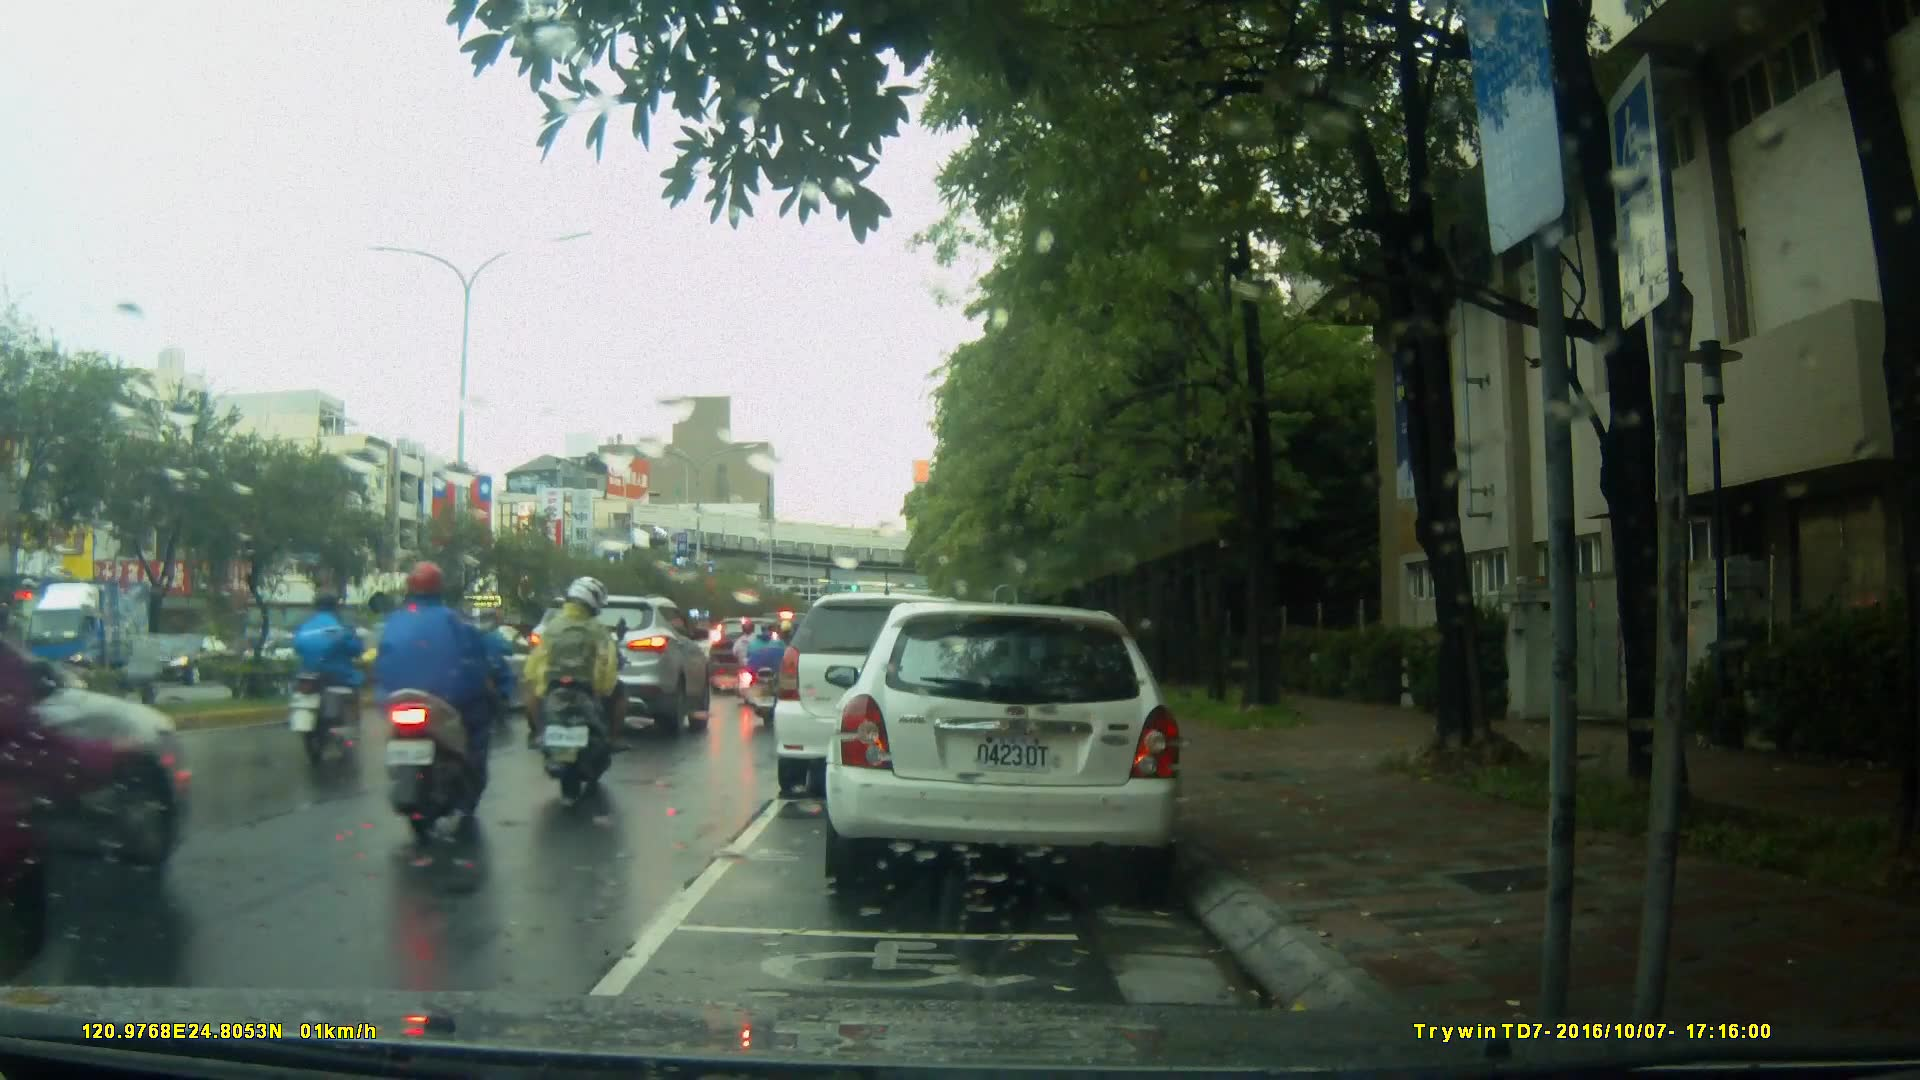rider: (374, 558, 497, 842), (524, 578, 628, 805), (284, 585, 368, 766), (450, 607, 531, 714), (742, 617, 793, 723), (734, 617, 771, 709)
vehicle: (822, 604, 1188, 883), (774, 595, 995, 802), (522, 595, 712, 743), (20, 576, 164, 697), (144, 630, 241, 686)
